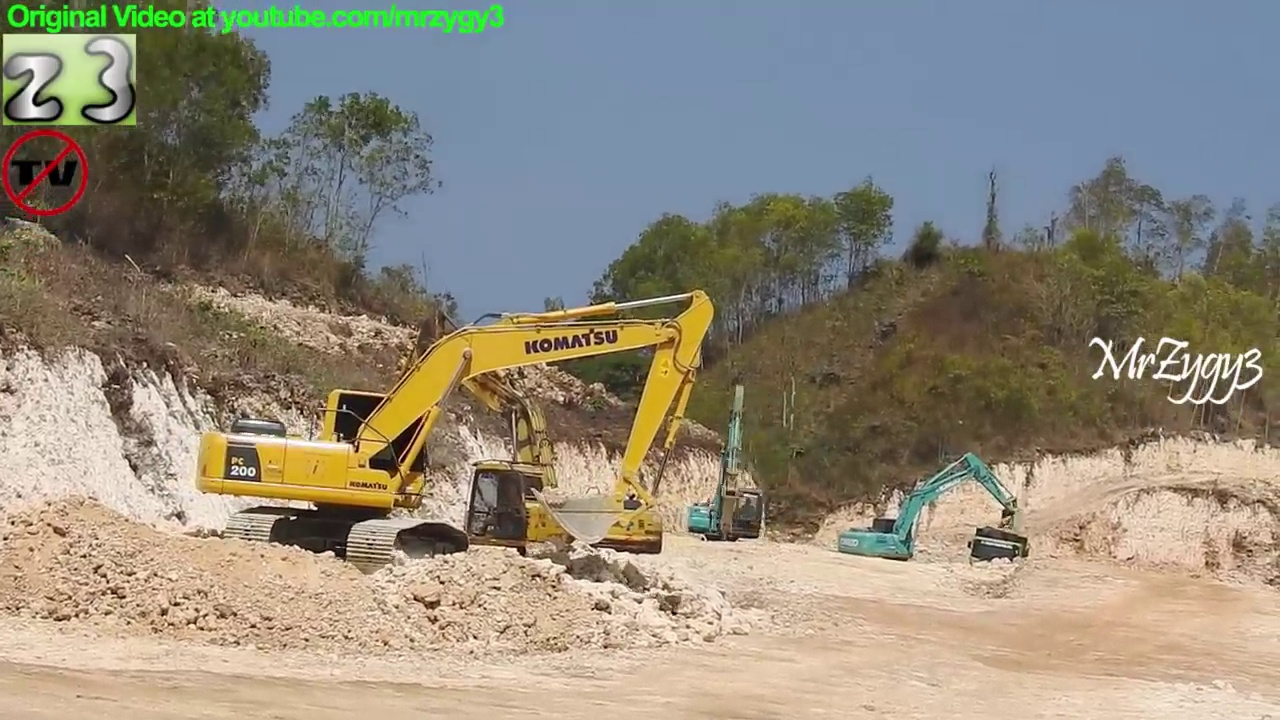excavator: (191, 282, 722, 582), (367, 306, 671, 581), (831, 447, 1024, 579), (682, 376, 771, 555)
truck: (964, 520, 1037, 590)
